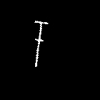double_crochet: (35, 21, 47, 66)
